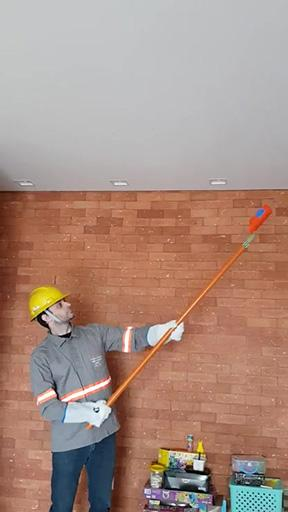Detector_Tensao_Contato: (246, 197, 281, 237)
Vara_Manobra: (89, 235, 253, 429)
